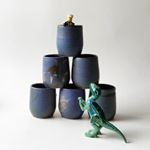cups: (87, 83, 121, 126), (69, 52, 103, 90), (26, 81, 58, 121), (40, 51, 72, 90), (57, 83, 88, 122), (54, 22, 85, 59)
